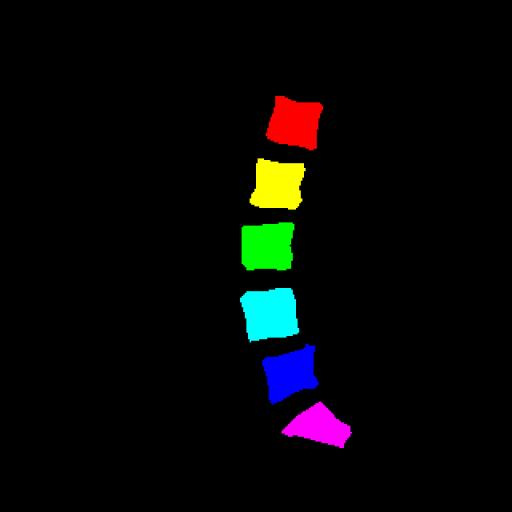L1: (266, 96, 323, 150)
L2: (250, 158, 305, 210)
L3: (242, 222, 294, 270)
L4: (240, 288, 299, 342)
L5: (263, 345, 318, 404)
S1: (282, 402, 351, 448)
